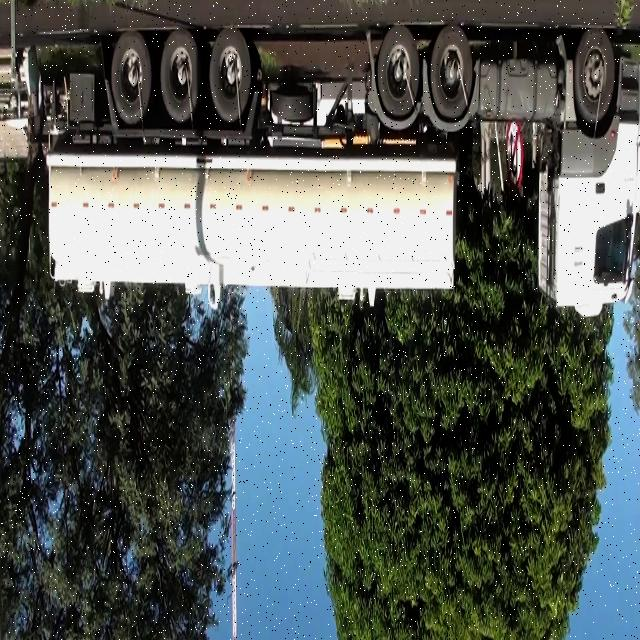-axle: (572, 28, 617, 122), (430, 24, 474, 120), (160, 28, 202, 124), (378, 26, 420, 122), (111, 31, 153, 124), (210, 28, 251, 122)
